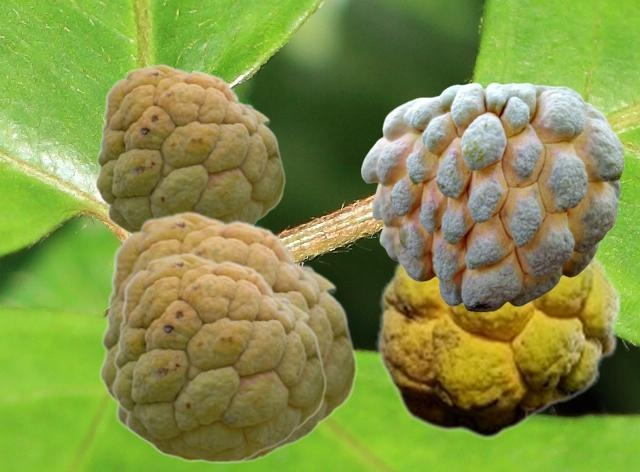atis: (98, 210, 356, 462), (361, 82, 623, 311), (375, 247, 621, 438), (111, 252, 325, 462), (94, 63, 284, 233)
